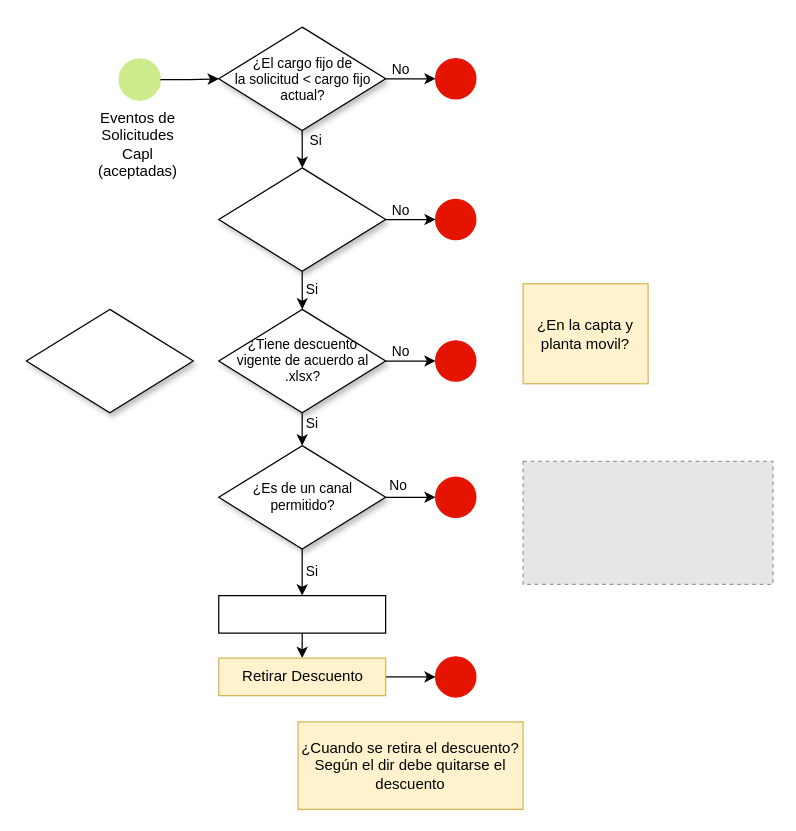
This 796x831 diagram has some shape labels left out. Grey dashed boxes stand in for pictures. Each missing label, with the centre of its shape:
Enviar SMS: [302,613]
¿Desde cuando hizo la porta desde las fechas del excel?: [110,362]
¿La fecha de alta >= 19/07?: [302,221]
